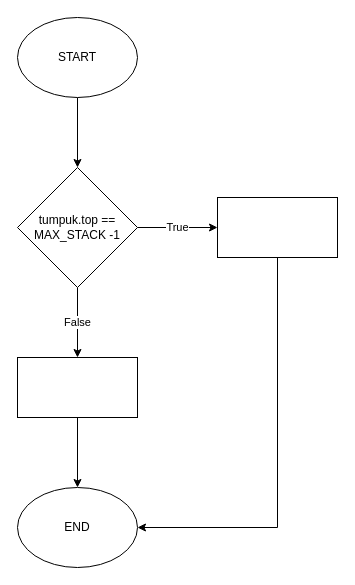
The diagram is 355 pixels wide and 585 high, and some of its shapes have lost their labels. Each missing label, with the centre of its shape:
return 0: (77,387)
return 1: (277,227)
